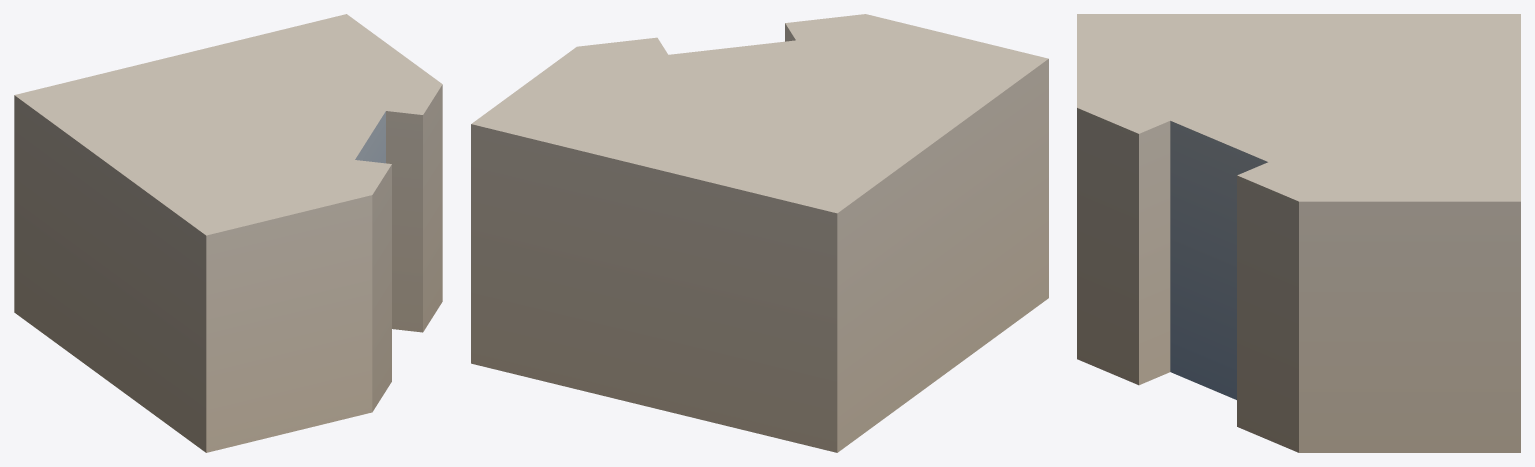
The model's file is building-corner-window-middle.glb.
The picture shows the model from 3 angles, left to right: view 1: azimuth 30°, elevation 25°; view 2: azimuth 150°, elevation 25°; view 3: azimuth 270°, elevation 25°; orthographic projection. The views are drawn at different scales.
Visible parts, largest first — view 1: building-corner-window-middle; view 2: building-corner-window-middle; view 3: building-corner-window-middle.
Part boxes in pixels (x1,y1,x2,y2): building-corner-window-middle: (14, 14, 442, 452); building-corner-window-middle: (471, 14, 1048, 452); building-corner-window-middle: (1077, 14, 1520, 452).
Size of the model in its own units: 1 by 0.625 by 1.
